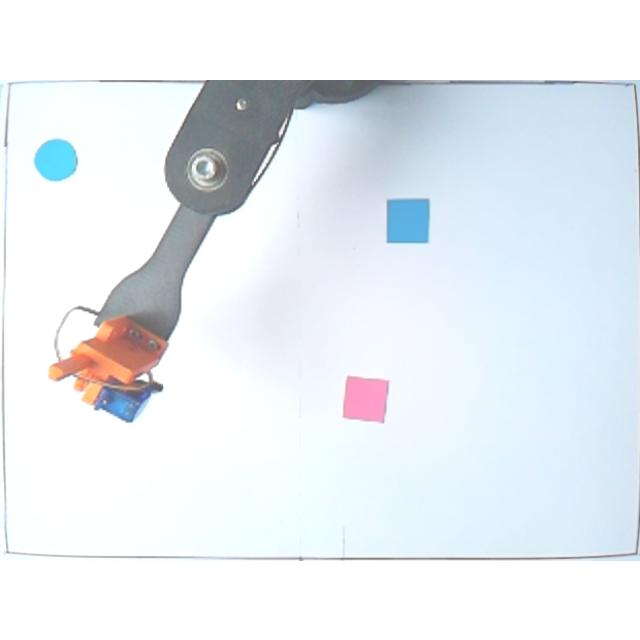blueCircle: (32, 134, 78, 186)
blueSquare: (382, 194, 432, 246)
pinkSquare: (340, 373, 390, 423)
